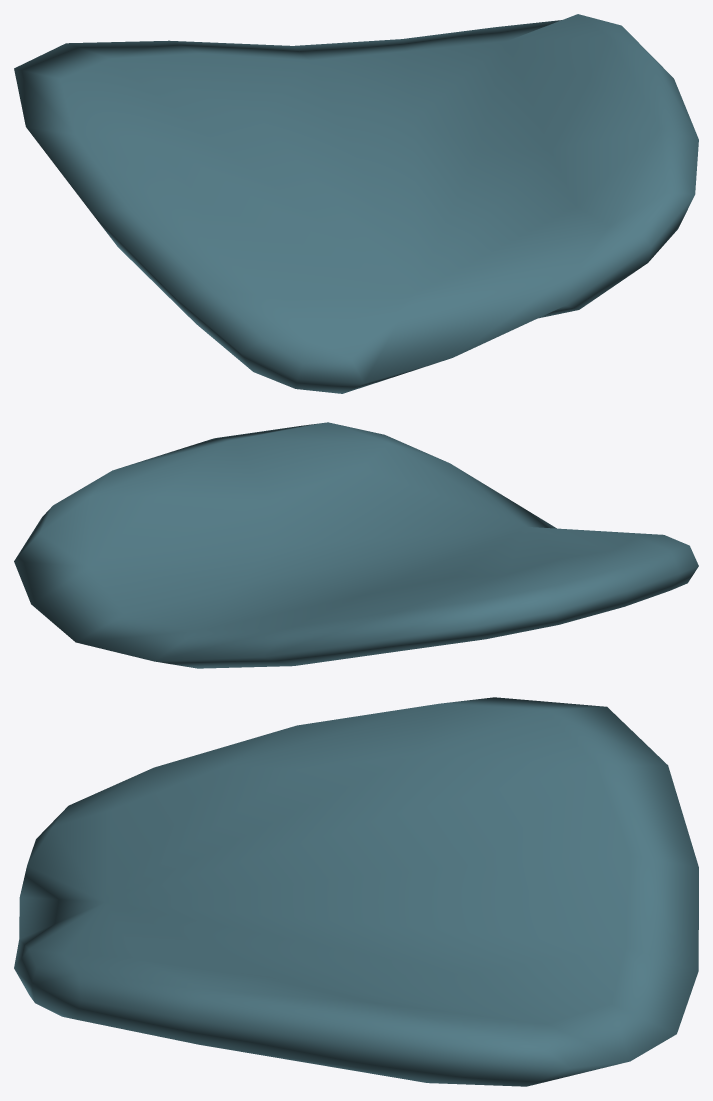
Rendered from Long_plantar_ligament_3rd_metatarsal_base_right.glb.
3 views of the same model, one above another, from view 1: azimuth 30°, elevation 25°; view 2: azimuth 150°, elevation 25°; view 3: azimuth 270°, elevation 25° (orthographic). The views are drawn at different scales.
Parts seen in each view (by area): view 1: Long_plantar_ligament_on_3rd_metatarsal_base.r_Generated_Mes; view 2: Long_plantar_ligament_on_3rd_metatarsal_base.r_Generated_Mes; view 3: Long_plantar_ligament_on_3rd_metatarsal_base.r_Generated_Mes.
Part boxes in pixels (bbox=[...]): Long_plantar_ligament_on_3rd_metatarsal_base.r_Generated_Mes: bbox=[14, 14, 698, 393]; Long_plantar_ligament_on_3rd_metatarsal_base.r_Generated_Mes: bbox=[14, 422, 698, 668]; Long_plantar_ligament_on_3rd_metatarsal_base.r_Generated_Mes: bbox=[14, 697, 698, 1086].
Size of the model in its own units: 0.00508 by 0.00127 by 0.00462.
